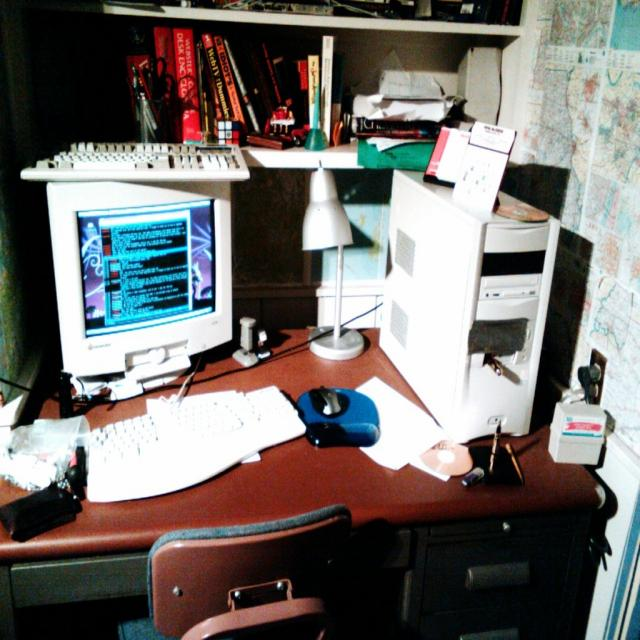chair: (120, 505, 352, 640)
desk: (0, 328, 598, 640)
keyboard: (82, 384, 307, 504)
mouse: (305, 388, 345, 417)
tv: (38, 180, 235, 380)
